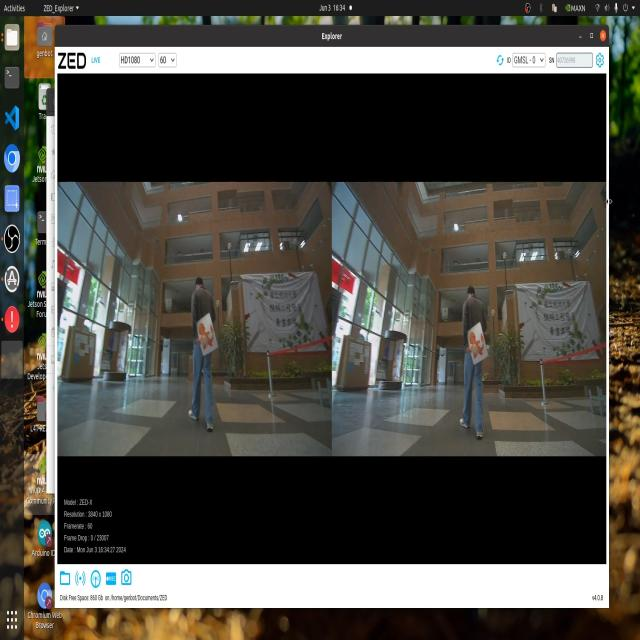red: (196, 313, 218, 354), (465, 331, 489, 366)
